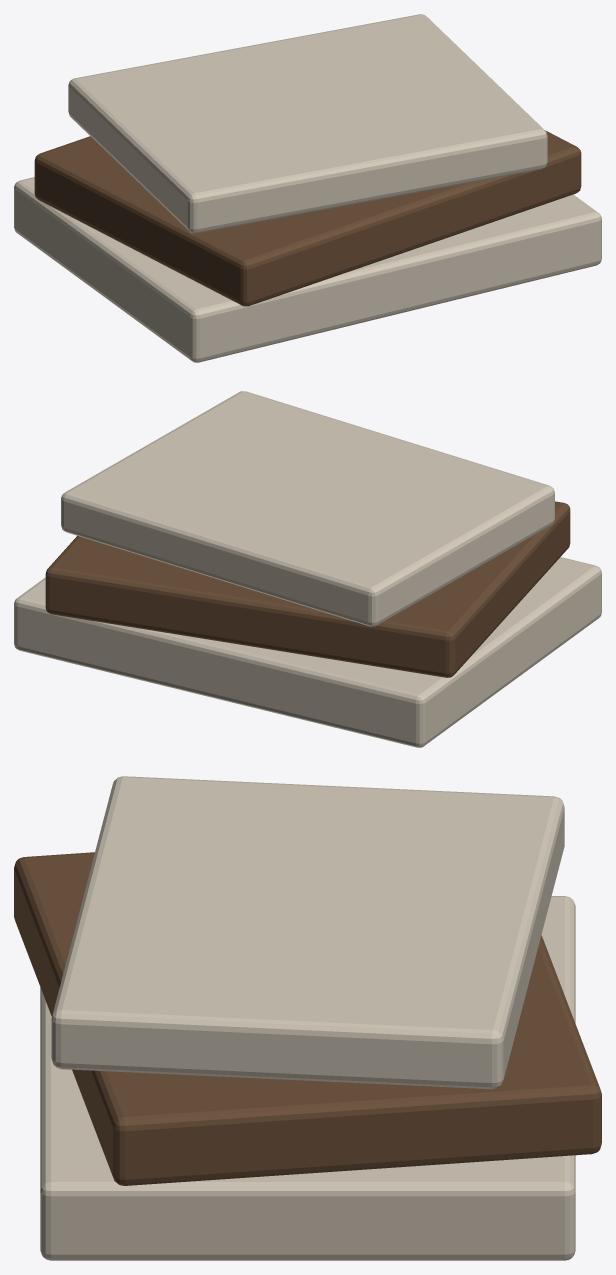
The model's file is book-stack.glb.
3 views of the same model, one above another, from view 1: azimuth 30°, elevation 25°; view 2: azimuth 150°, elevation 25°; view 3: azimuth 270°, elevation 25° (orthographic). The views are drawn at different scales.
Visible parts, largest first — view 1: book_2, book_0, book_1; view 2: book_2, book_0, book_1; view 3: book_2, book_1, book_0.
Part boxes in pixels (x1,y1,x2,y2): book_2: (68, 14, 547, 233); book_0: (14, 177, 601, 362); book_1: (34, 130, 581, 306); book_2: (61, 391, 554, 626); book_0: (14, 557, 601, 747); book_1: (45, 501, 570, 677); book_2: (51, 776, 564, 1089); book_1: (14, 852, 601, 1185); book_0: (40, 896, 575, 1260).
Size of the model in its own units: 0.2651 by 0.088 by 0.2196.
